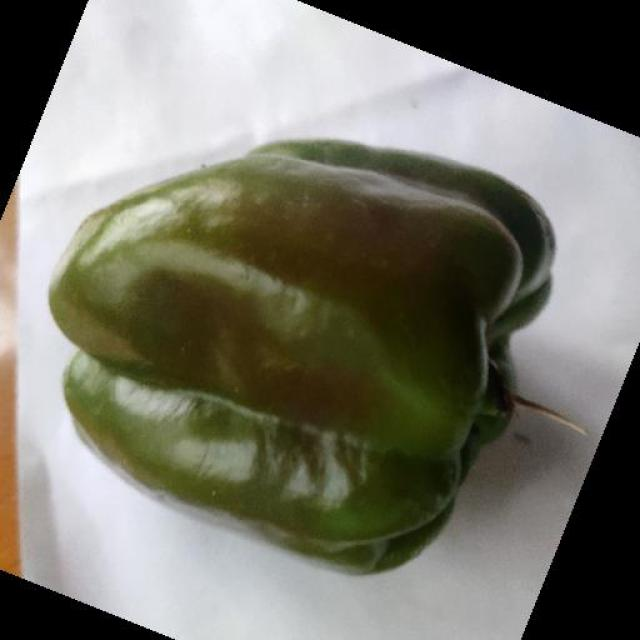Stale_Capsicum: (20, 166, 539, 554)
